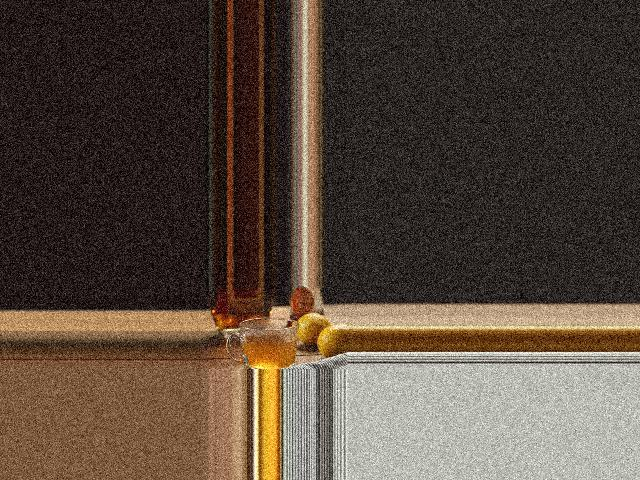lemon: (320, 327, 346, 356)
